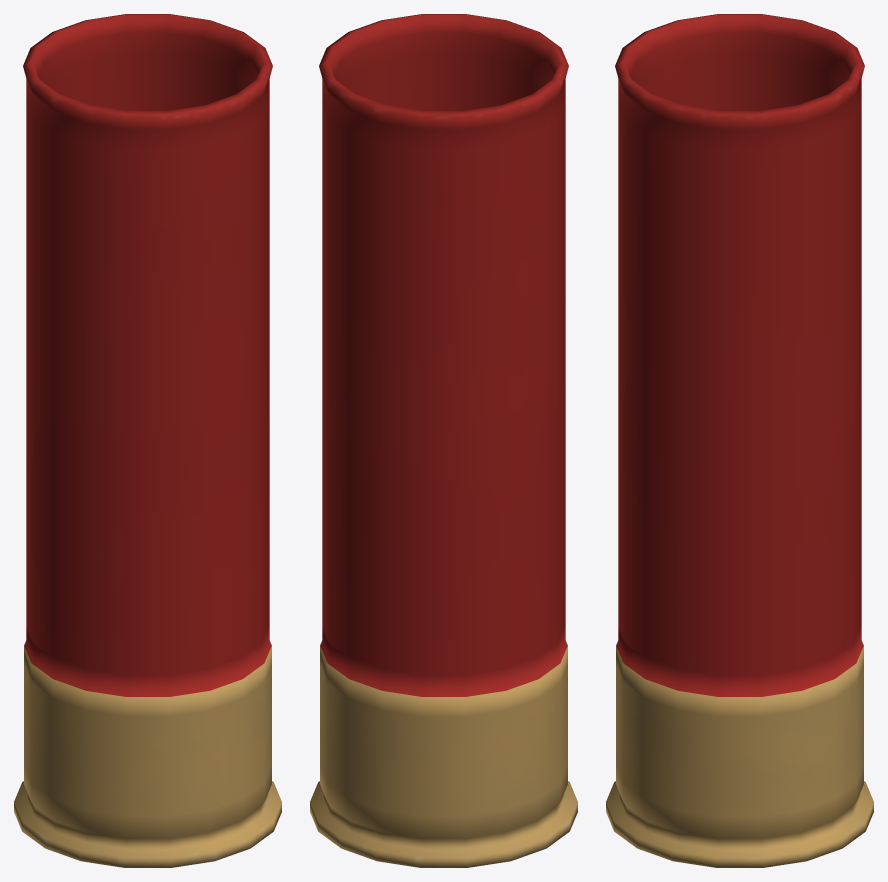
File: shell_12ga_spent.glb
3 renders of one model, left to right at view 1: azimuth 30°, elevation 25°; view 2: azimuth 150°, elevation 25°; view 3: azimuth 270°, elevation 25°, orthographic.
Parts seen in each view (by area): view 1: shell_12ga_spent; view 2: shell_12ga_spent; view 3: shell_12ga_spent.
Part boxes in pixels (x1=…): shell_12ga_spent: x1=14, y1=14, x2=281, y2=867; shell_12ga_spent: x1=310, y1=14, x2=577, y2=867; shell_12ga_spent: x1=606, y1=14, x2=873, y2=867.
Size of the model in its own units: 0.0224 by 0.0705 by 0.0227.
2 materials, 2 textured.
